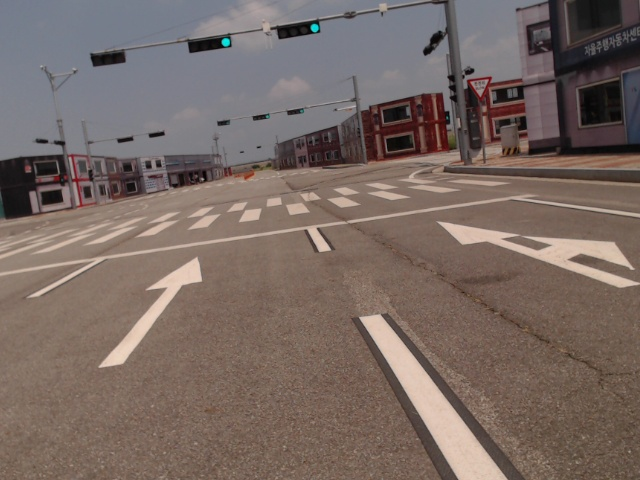straight_green_4: (188, 34, 232, 53), (278, 20, 320, 38), (288, 107, 304, 115), (253, 113, 270, 120)
